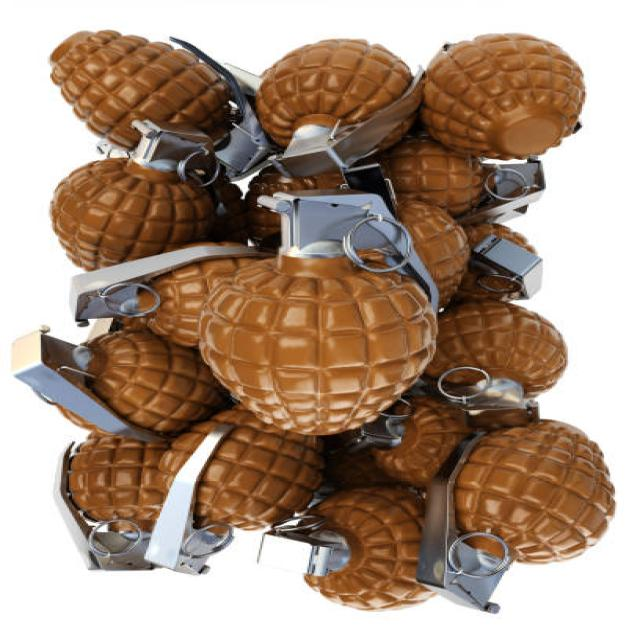grenade: (190, 184, 455, 444)
